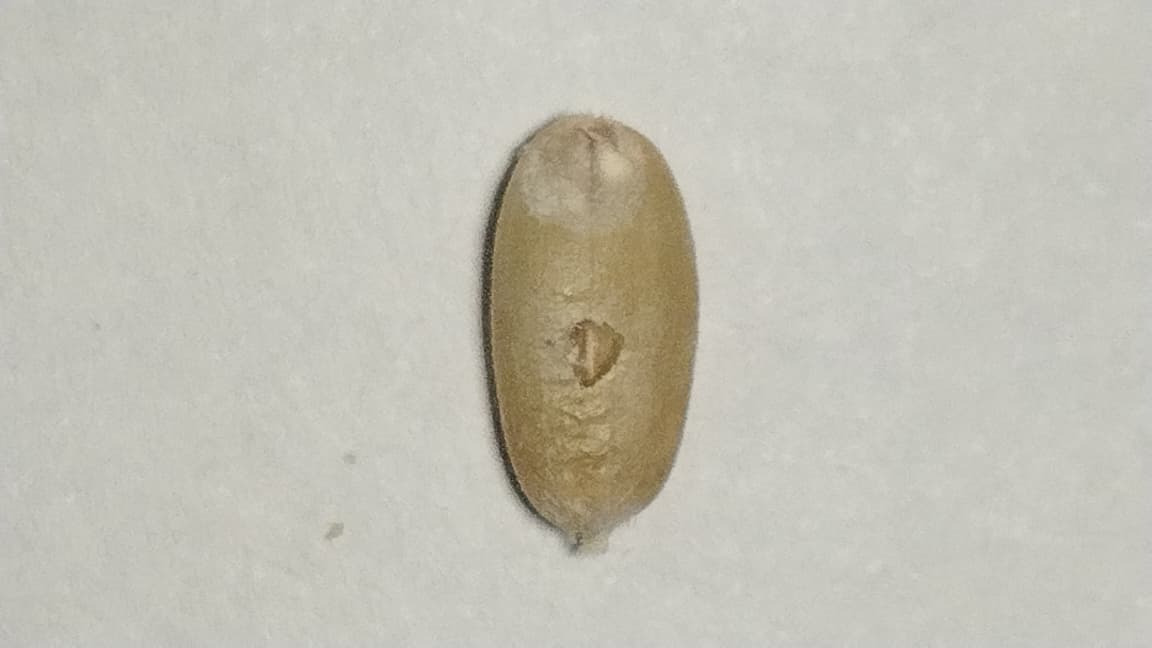damage: (489, 115, 698, 550)
insectdamage: (509, 110, 651, 261), (540, 282, 637, 421)
